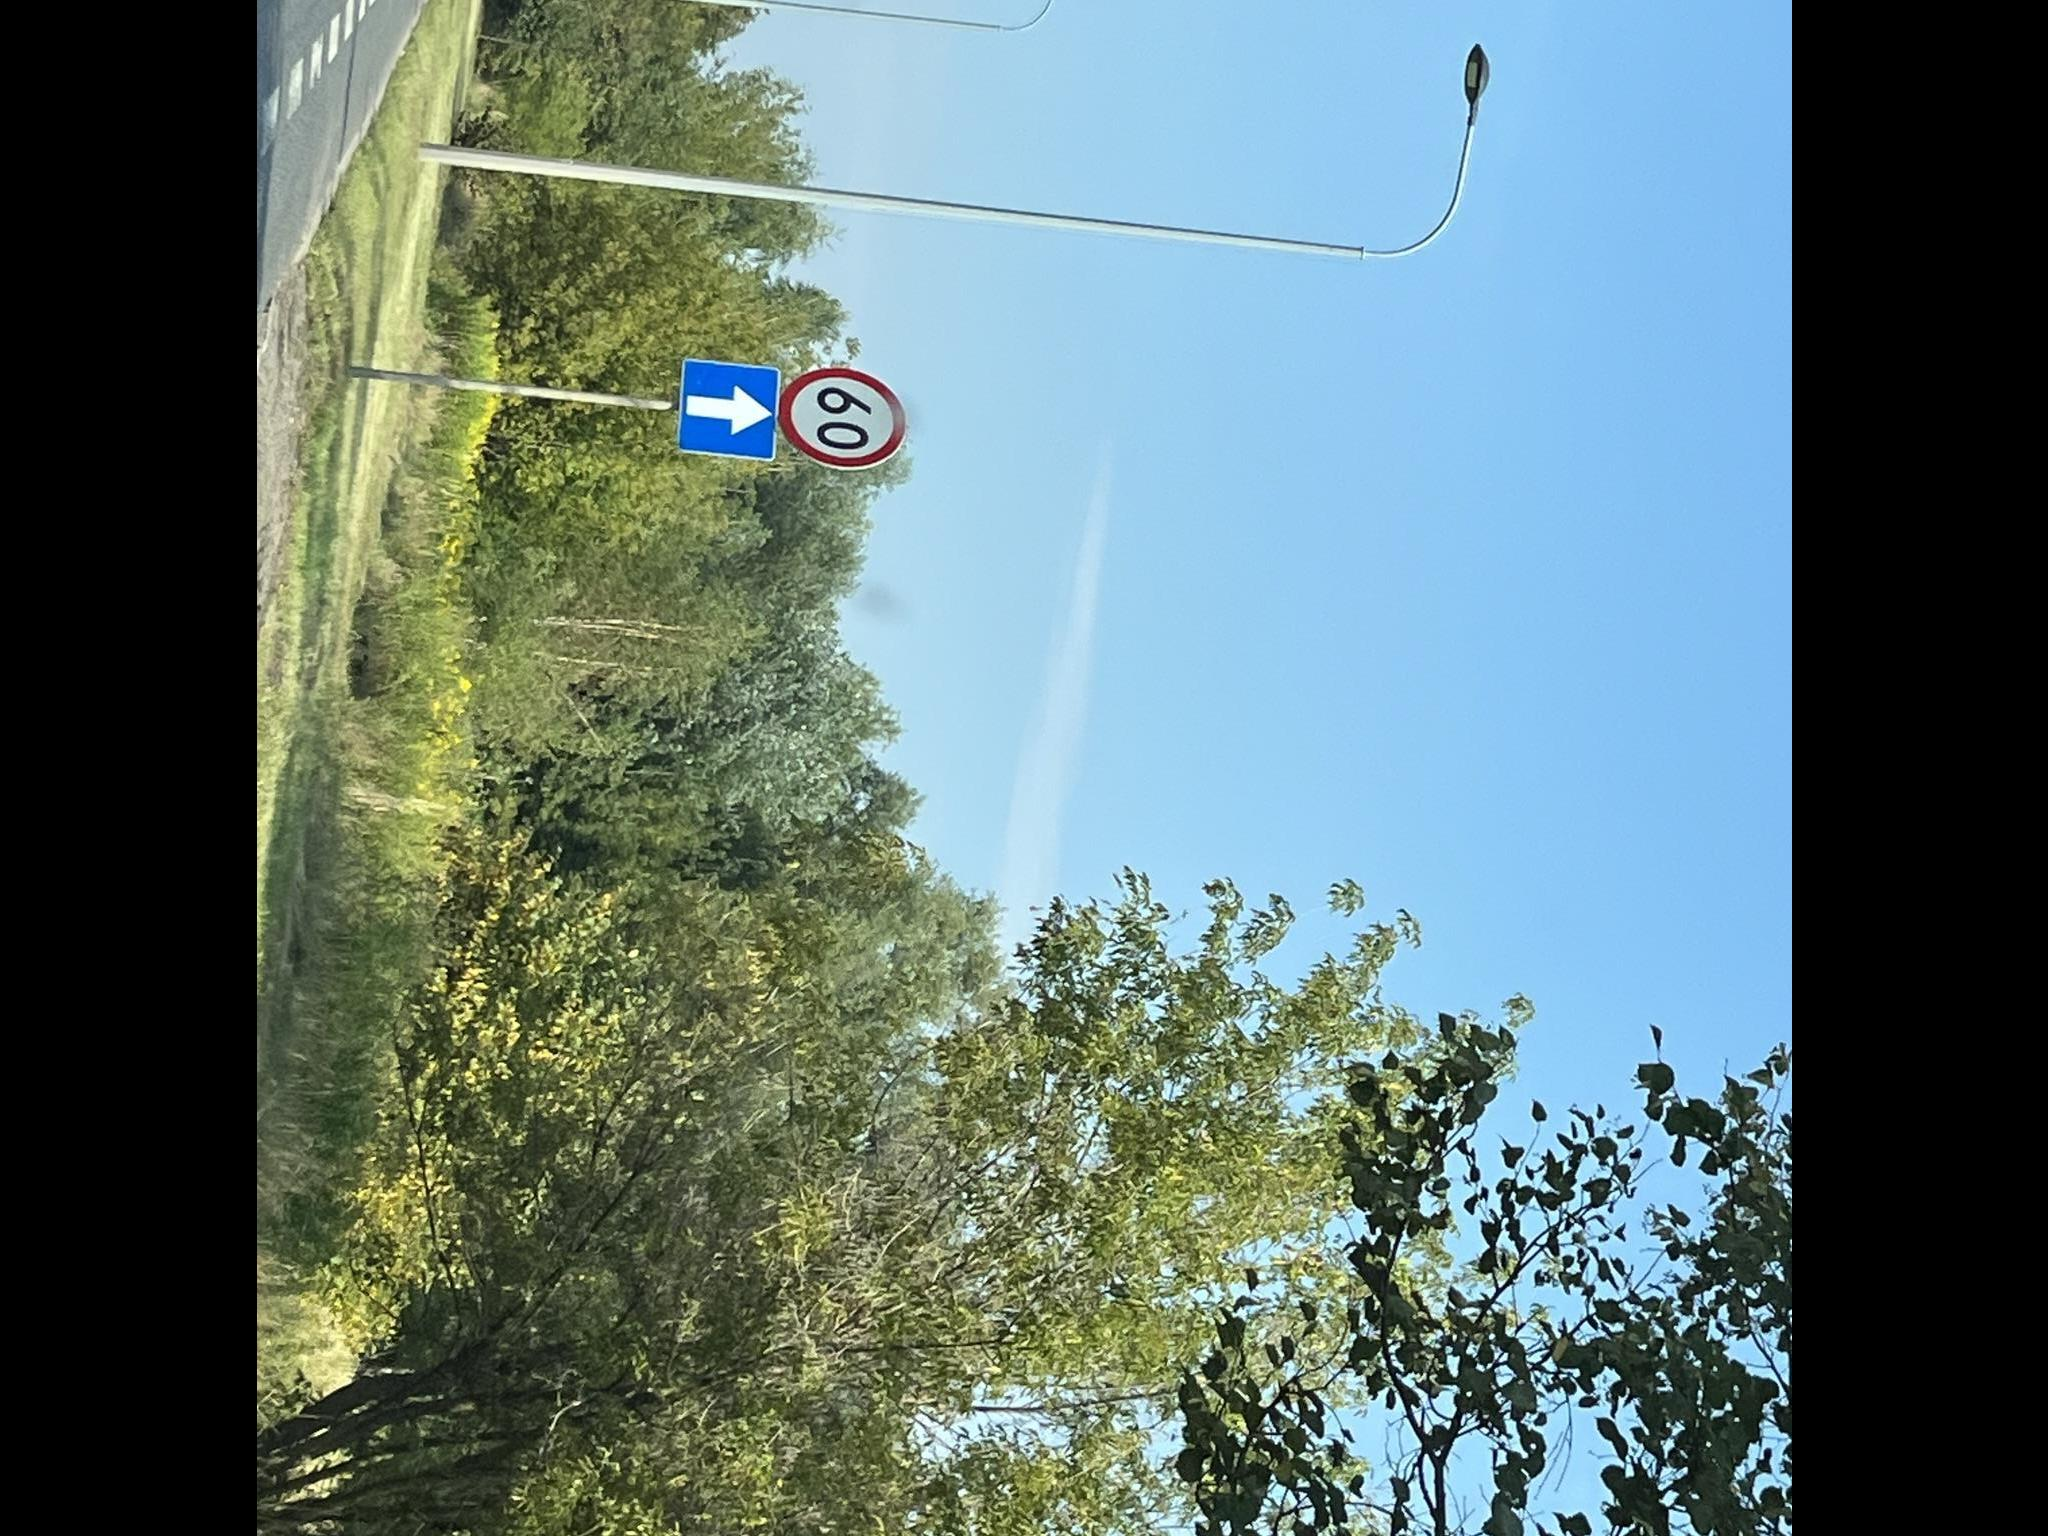information: (672, 357, 785, 465)
prohibitory: (777, 365, 910, 474)
